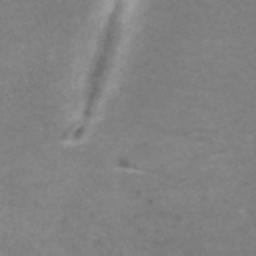Finishing roll printing: (82, 0, 131, 118), (118, 157, 138, 168), (70, 124, 84, 138)
